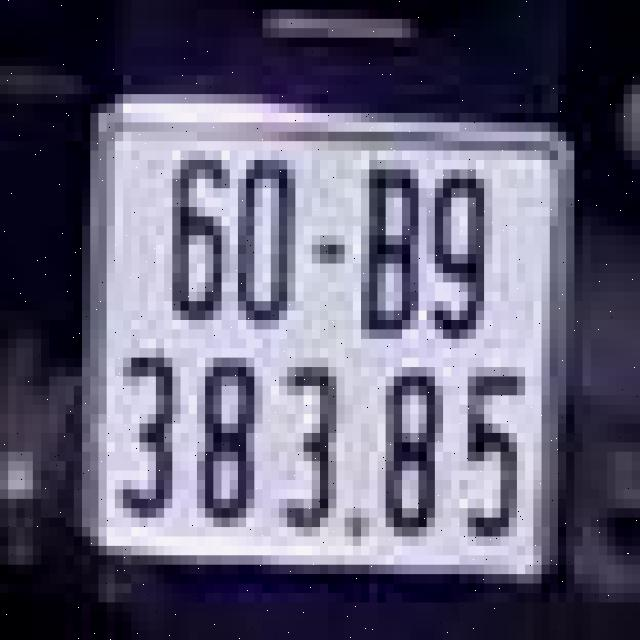0: (238, 137, 304, 334)
3: (99, 339, 172, 527), (279, 358, 345, 536)
5: (464, 348, 529, 556)
6: (160, 132, 234, 339)
8: (185, 339, 266, 536), (382, 362, 439, 542)
9: (431, 156, 496, 344)
B: (357, 136, 422, 344)
